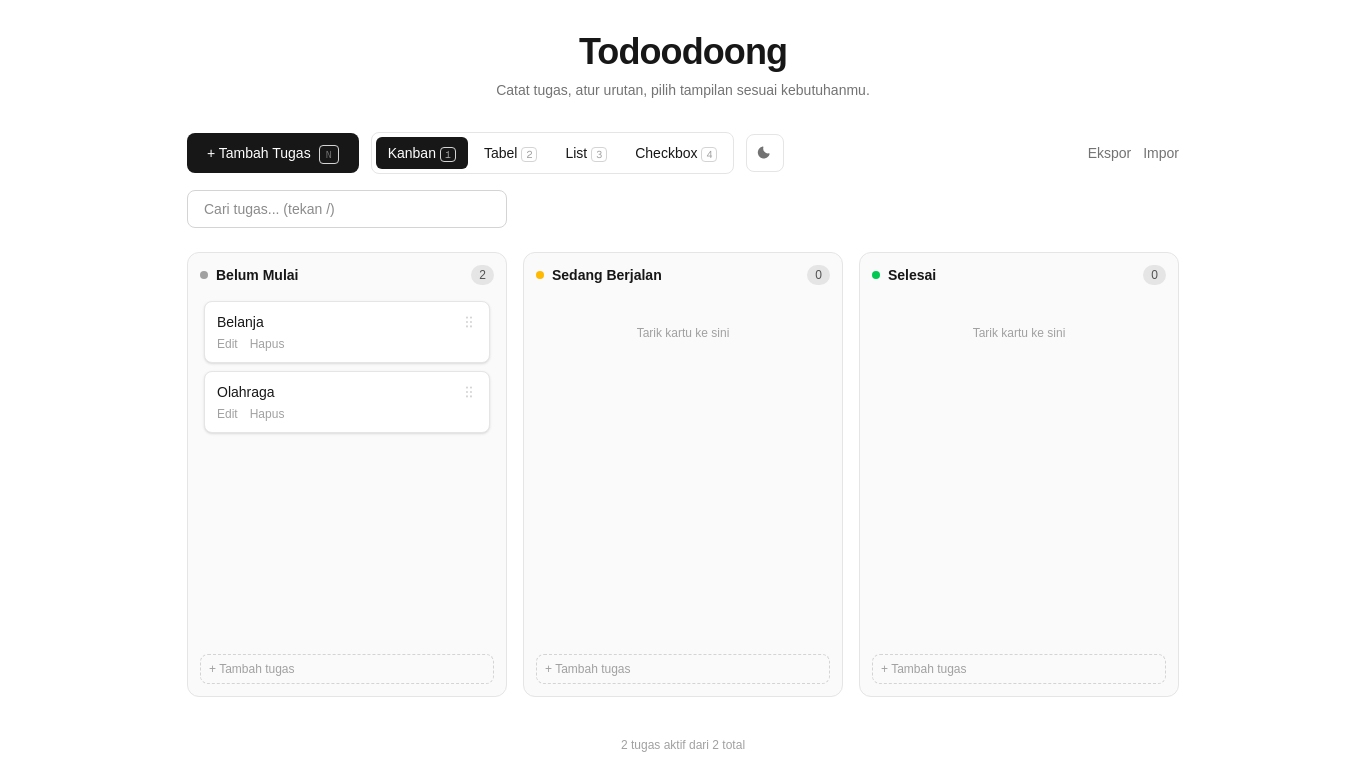
it: TodoApp alur inti › memfilter tugas lewat pencarian
The image size is (1366, 768).
Step 1. Type "belanja" into the search field with placeholder "Cari tugas... (tekan /)" → point(347, 209), box [187,190,507,228]
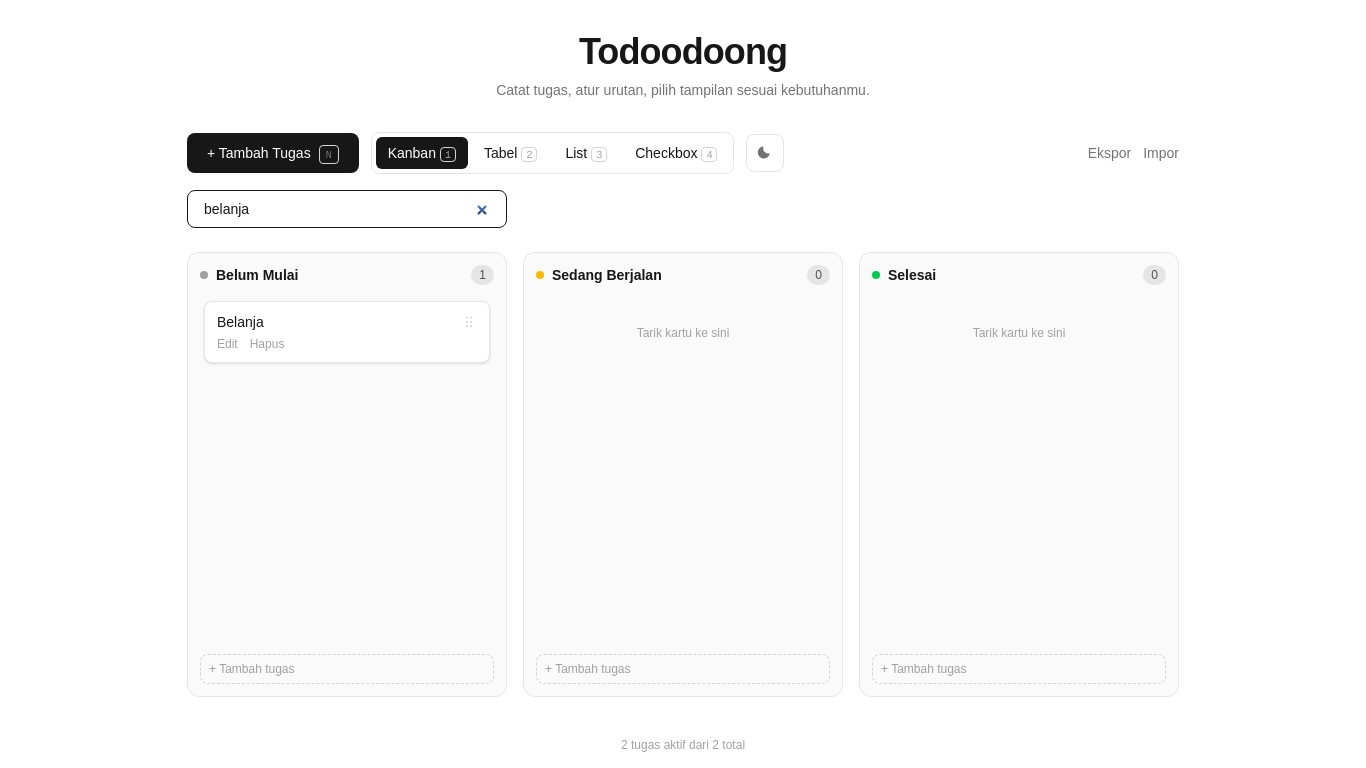
Expected: the text "Belanja" is shown, [217,314,264,330]
Expected: the button "Olahraga" is gone
